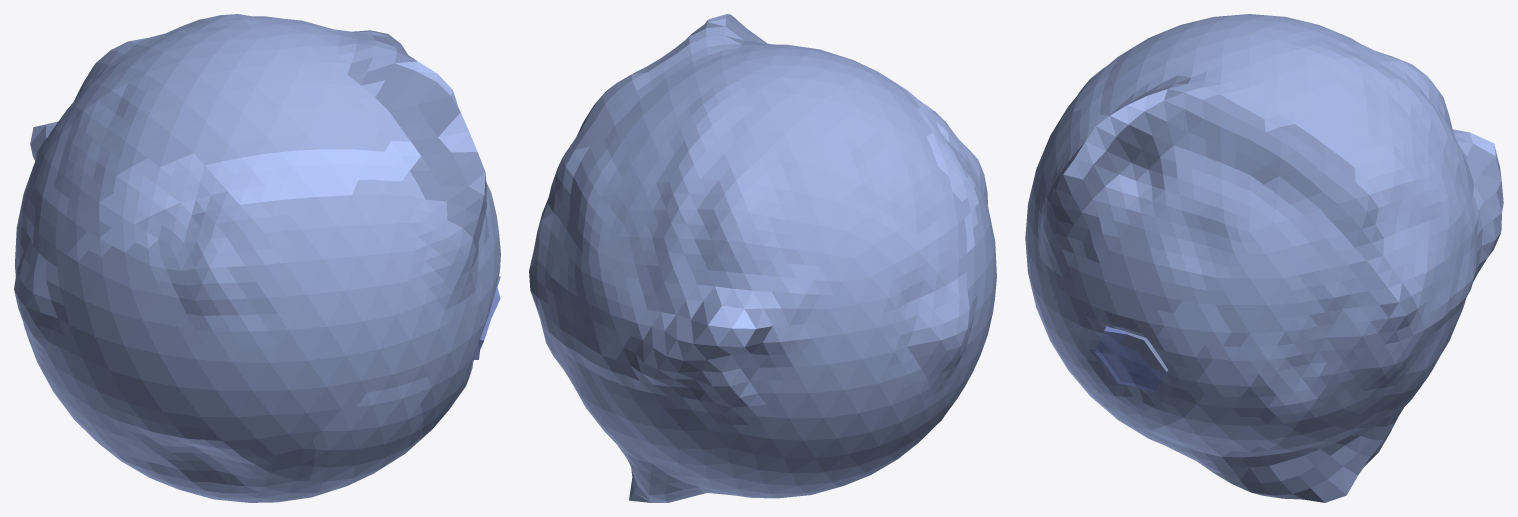
The model's file is Planet3.fbx.
The picture shows the model from 3 angles, left to right: view 1: azimuth 30°, elevation 25°; view 2: azimuth 150°, elevation 25°; view 3: azimuth 270°, elevation 25°; orthographic projection. The views are drawn at different scales.
Parts seen in each view (by area): view 1: Water.001; view 2: Water.001; view 3: Water.001.
Part boxes in pixels (<box>): Water.001: <box>14,14,500,502</box>; Water.001: <box>529,14,996,502</box>; Water.001: <box>1025,14,1503,502</box>.
Bounding box in the file's own units: 205 × 208 × 213.
